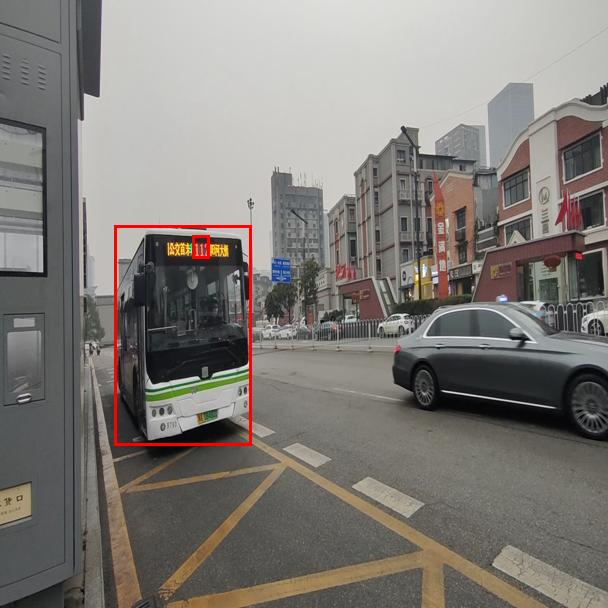bus: (114, 225, 251, 445)
screen: (192, 235, 209, 258)
